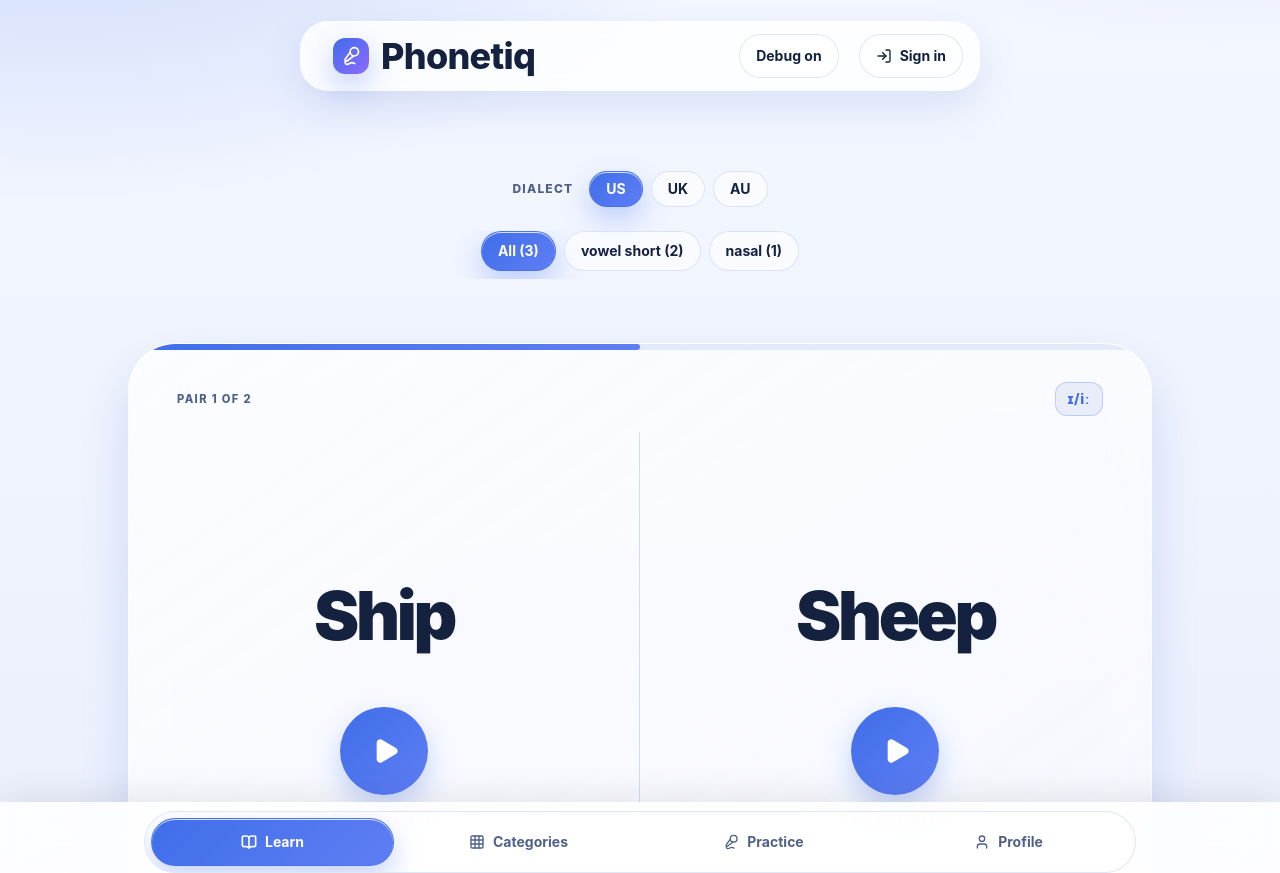
it: App › starts weak-pairs practice from profile action
Expected: the text "Pair 1 of 2" is shown, [177, 391, 252, 407]
Click the button "Profile". click: click(1008, 842)
box: [888, 818, 1129, 866]
(page scrolled)
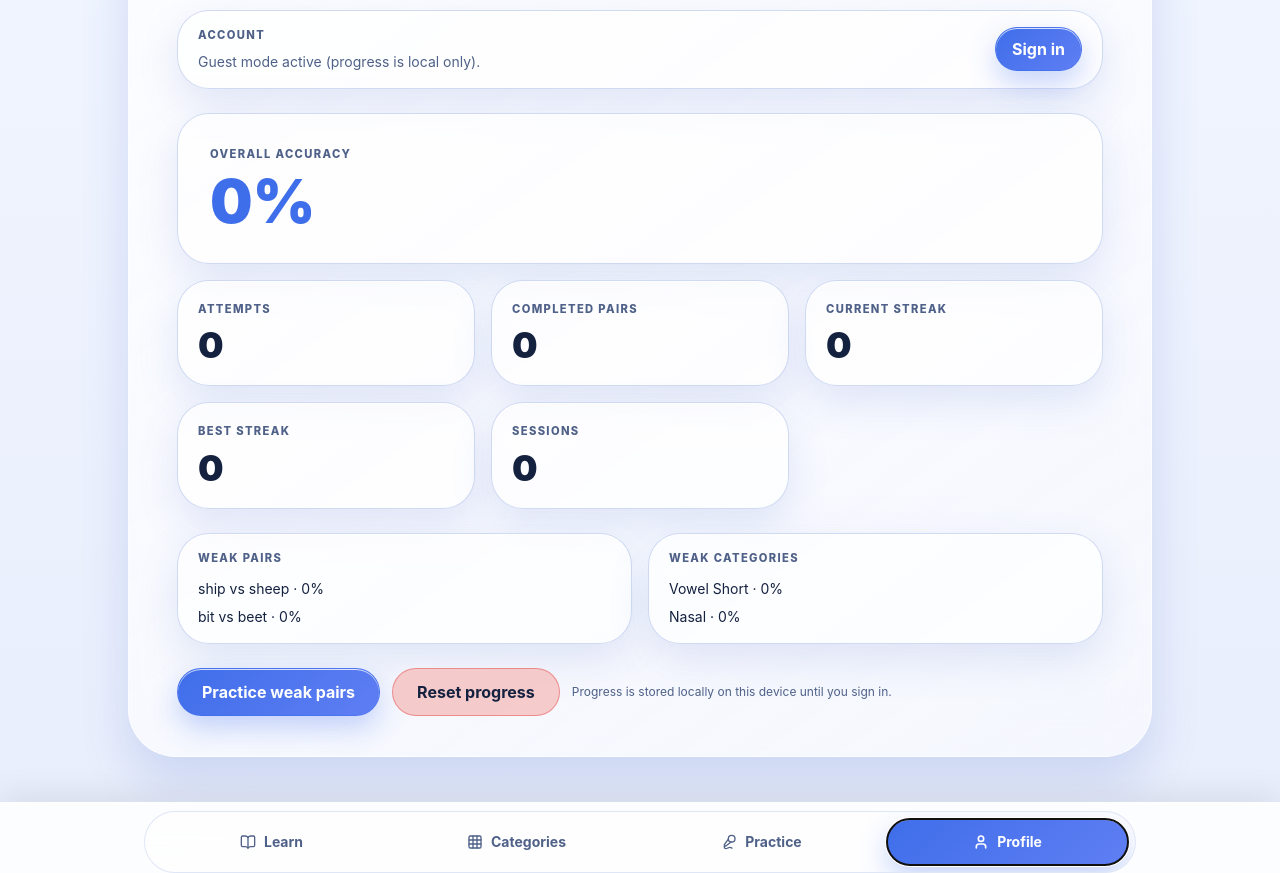
Click the button "Practice weak pairs". click: click(279, 692)
box: [177, 668, 380, 716]
(page scrolled)
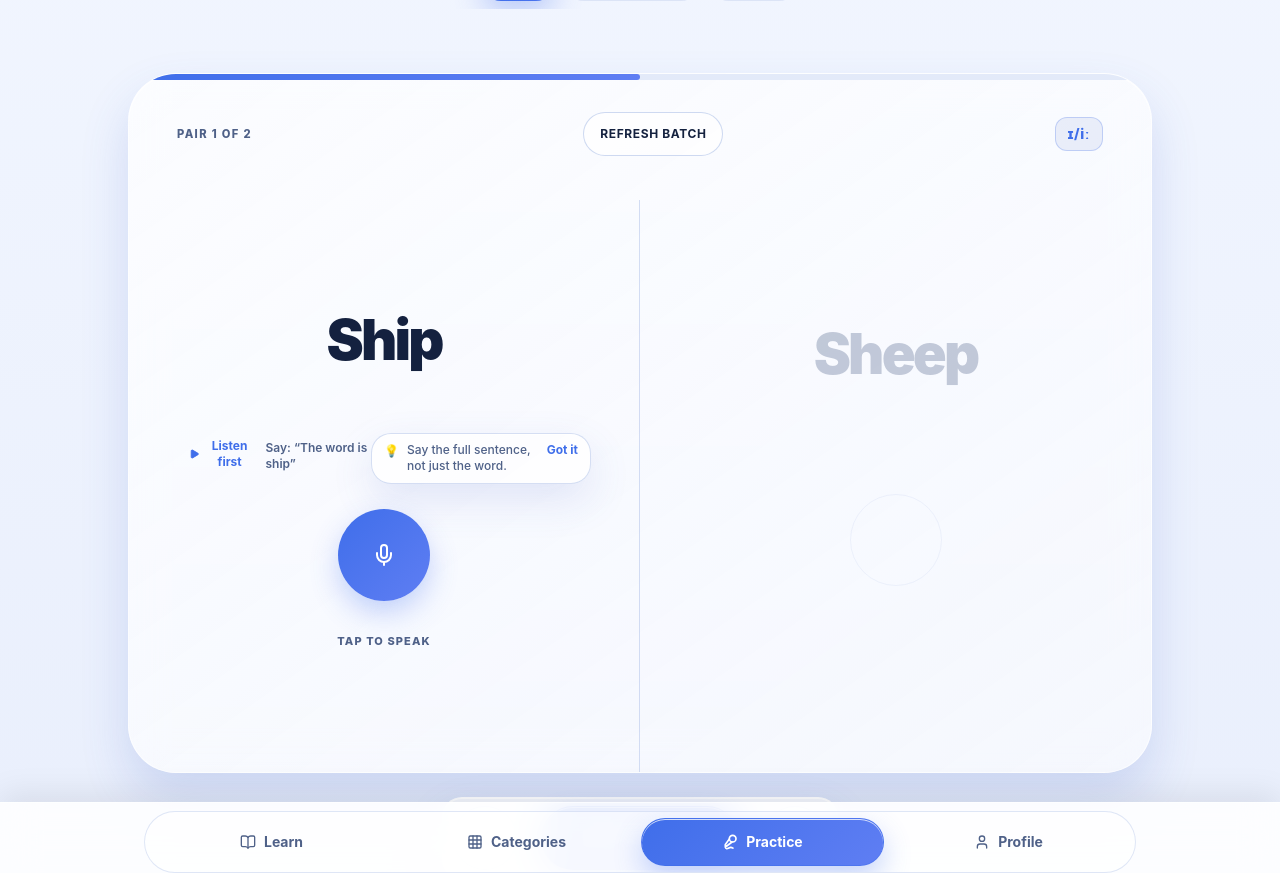
Expected: the element with test id "practice-stage" is shown
